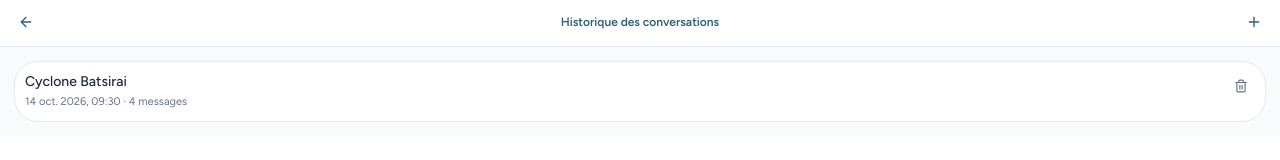
AiChatHistory — suppression › demande confirmation avant de supprimer, et n’appelle pas l’API sans accord
The width and height of the screenshot is (1280, 160).
Click the button named "Supprimer la conversation « Cyclone Batsirai »" at point(1241, 86), box left=1227, top=72, right=1255, bottom=100
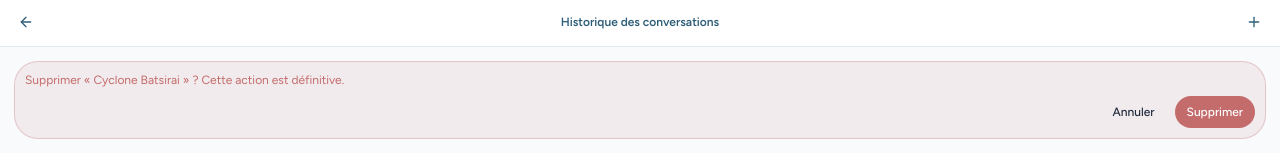
Result: the text "Cette action est définitive" is shown at left=180, top=73, right=344, bottom=87
Click the button "Annuler" at point(1134, 112), box left=1101, top=96, right=1166, bottom=128
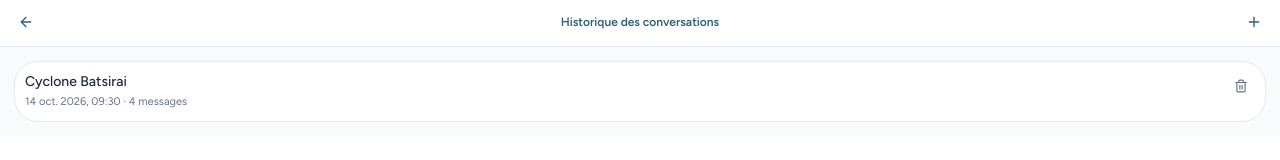
Result: the button named "Supprimer la conversation « Cyclone Batsirai »" is shown at left=1227, top=72, right=1255, bottom=100
